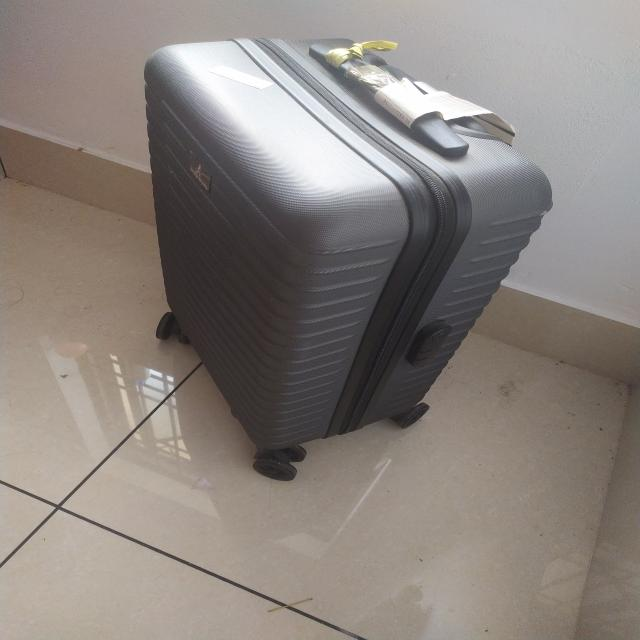luggage: (142, 38, 554, 481)
